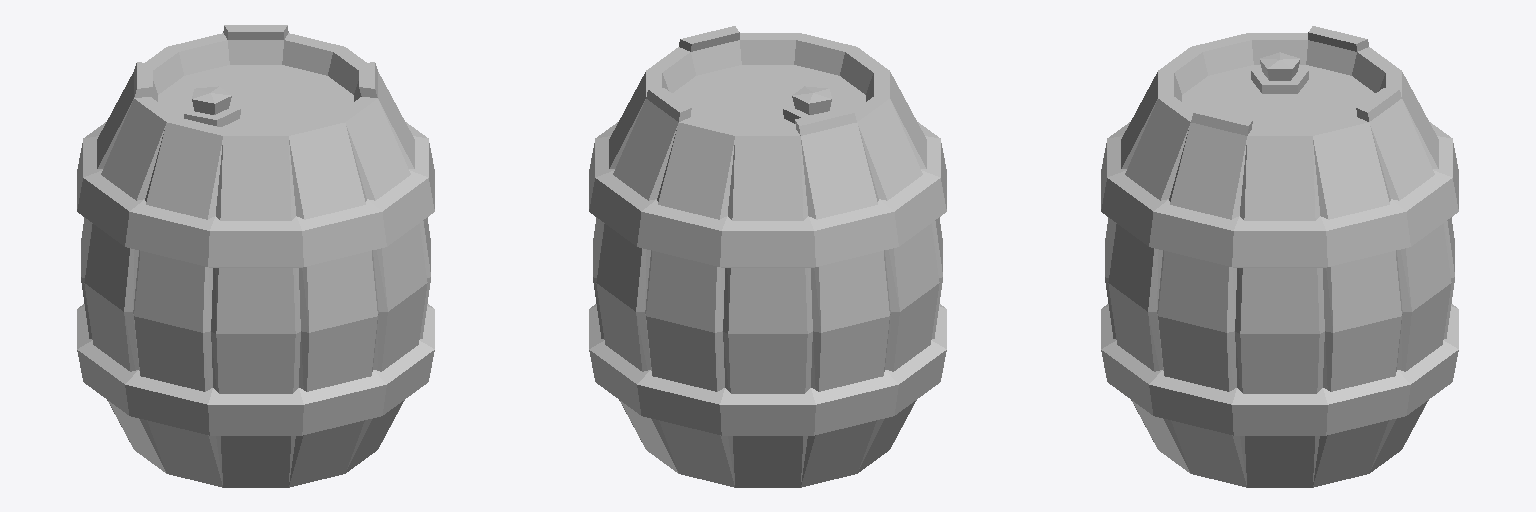
The model's file is barrel_large.obj.
3 views of the same model, side by side, from view 1: azimuth 30°, elevation 25°; view 2: azimuth 150°, elevation 25°; view 3: azimuth 270°, elevation 25° (orthographic).
Visible parts, largest first — view 1: barrel_large_Cylinder.042; view 2: barrel_large_Cylinder.042; view 3: barrel_large_Cylinder.042.
Boxes of the visible parts, <box> form: barrel_large_Cylinder.042: <box>77,25,434,487</box>; barrel_large_Cylinder.042: <box>589,26,946,487</box>; barrel_large_Cylinder.042: <box>1101,26,1458,487</box>.
Bounding box in the file's own units: 1.8 × 2 × 1.8.